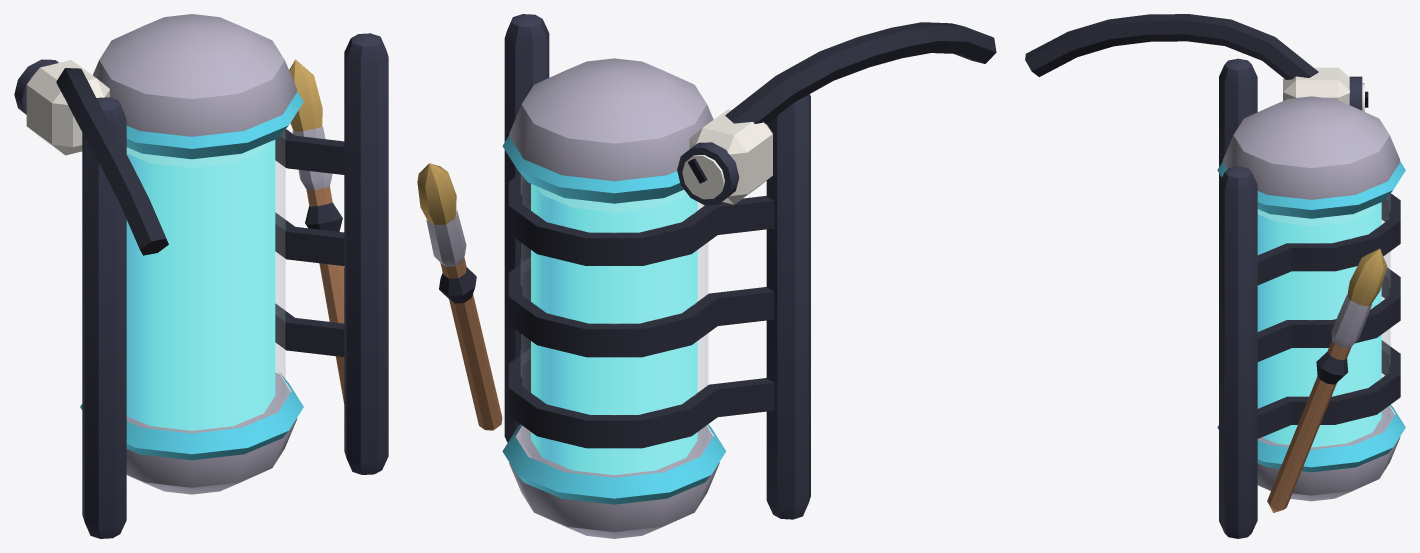
File: chromatic_reservoir.glb
3 views of the same model, side by side, from view 1: azimuth 30°, elevation 25°; view 2: azimuth 150°, elevation 25°; view 3: azimuth 270°, elevation 25° (orthographic). The views are drawn at different scales.
Parts seen in each view (by area): view 1: Pack, Fill; view 2: Pack, Fill; view 3: Pack, Fill.
Boxes of the visible parts, box(x1,y1,x2,y2) form: Pack: box(14, 14, 388, 538); Fill: box(126, 140, 275, 430); Pack: box(417, 14, 996, 538); Fill: box(531, 184, 697, 475); Pack: box(1025, 14, 1405, 538); Fill: box(1257, 202, 1381, 447).
Size of the model in its own units: 0.457 by 0.5466 by 0.4724.
